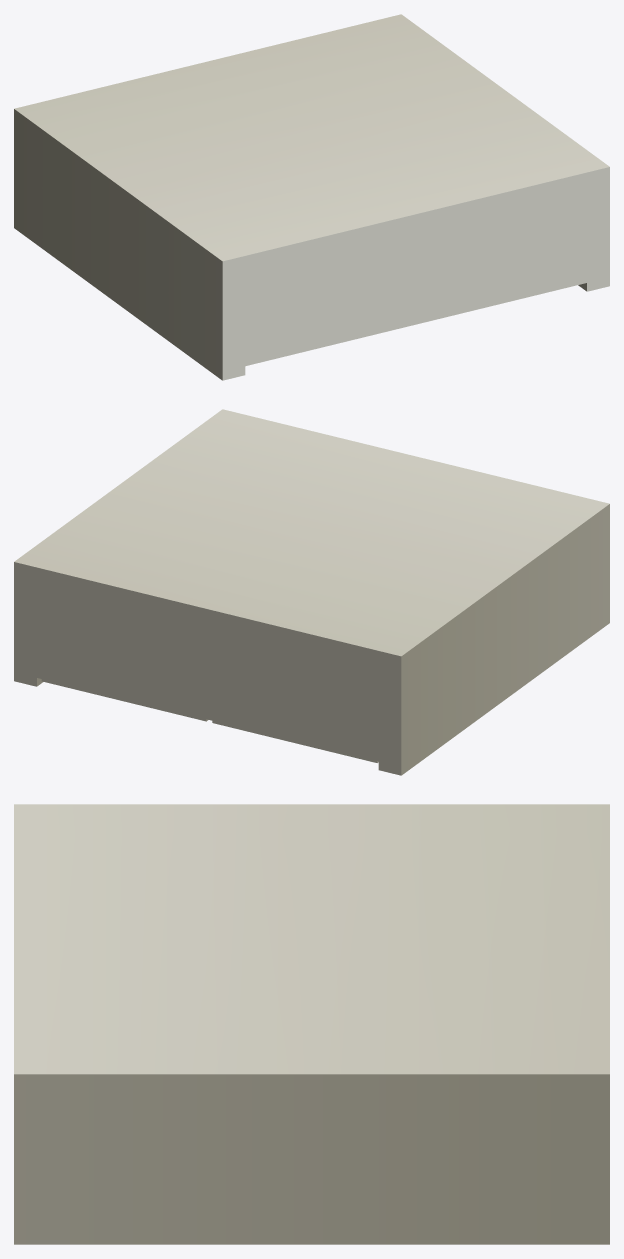
Rendered from CR_caf_Cabinet_002.FBX.
3 renders of one model, top to bottom at view 1: azimuth 30°, elevation 25°; view 2: azimuth 150°, elevation 25°; view 3: azimuth 270°, elevation 25°, orthographic. The views are drawn at different scales.
Parts seen in each view (by area): view 1: CR_caf_Cabinet_002; view 2: CR_caf_Cabinet_002; view 3: CR_caf_Cabinet_002.
Part boxes in pixels (box(x1,y1,x2,y2)): CR_caf_Cabinet_002: box(14, 14, 609, 380); CR_caf_Cabinet_002: box(14, 409, 609, 775); CR_caf_Cabinet_002: box(14, 804, 609, 1244).
Size of the model in its own units: 178 by 53.24 by 166.
